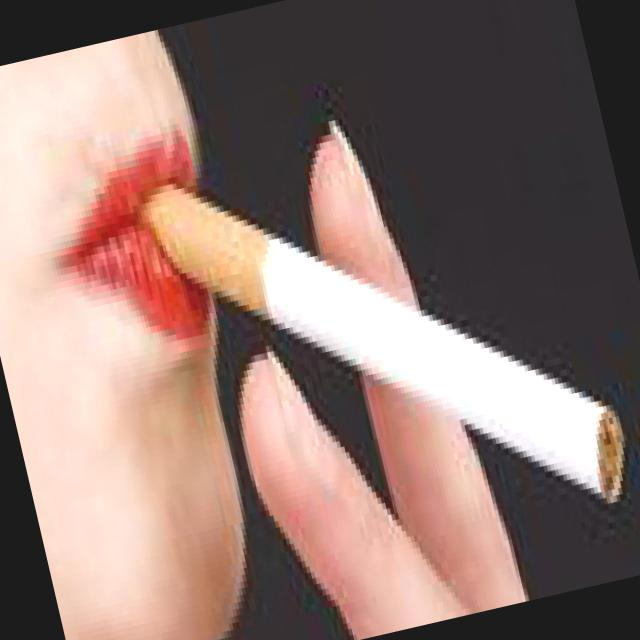smoke: (117, 58, 640, 620)
